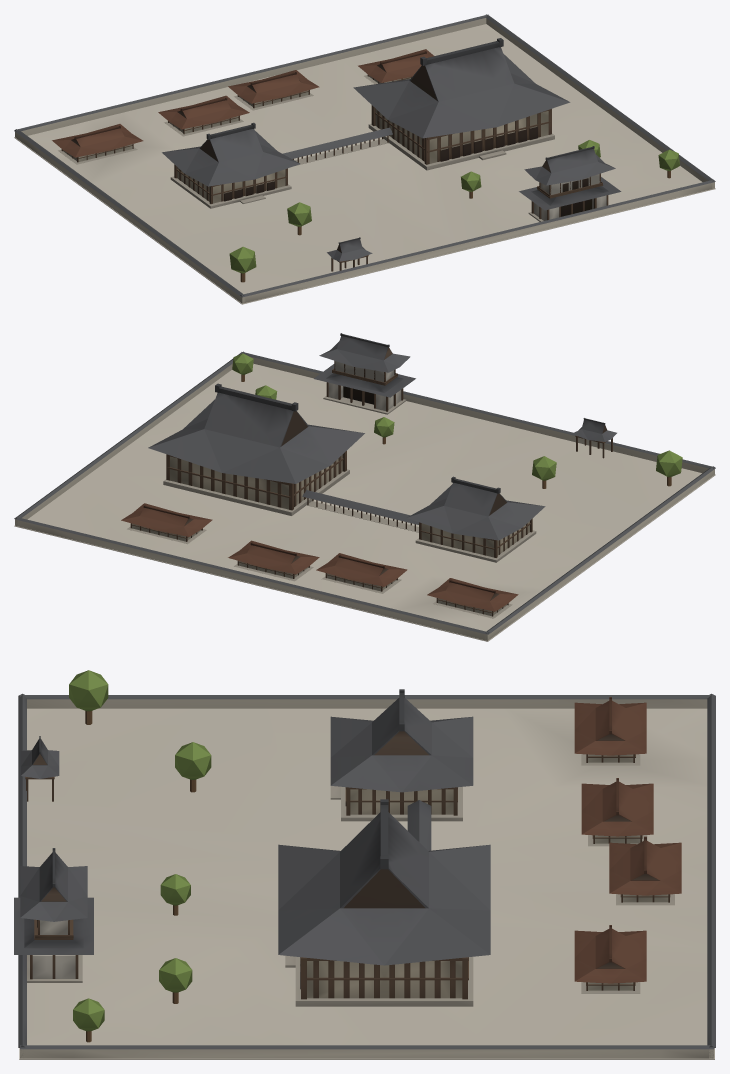
The model's file is higashi-honganji.glb.
3 renders of one model, top to bottom at view 1: azimuth 30°, elevation 25°; view 2: azimuth 150°, elevation 25°; view 3: azimuth 270°, elevation 25°, orthographic. The views are drawn at different scales.
Parts seen in each view (by area): view 1: p0_grounds, p2_roofs, p1_halls; view 2: p0_grounds, p2_roofs, p1_halls; view 3: p0_grounds, p2_roofs, p1_halls.
Boxes of the visible parts, bbox=[...] form: p0_grounds: bbox=[14, 14, 715, 304]; p2_roofs: bbox=[52, 38, 679, 282]; p1_halls: bbox=[58, 74, 608, 271]; p0_grounds: bbox=[14, 351, 715, 641]; p2_roofs: bbox=[121, 333, 682, 611]; p1_halls: bbox=[127, 360, 616, 618]; p0_grounds: bbox=[18, 693, 715, 1059]; p2_roofs: bbox=[14, 670, 681, 1042]; p1_halls: bbox=[21, 736, 674, 1006].
Bounding box in the file's own units: 240 × 41.55 × 202.
